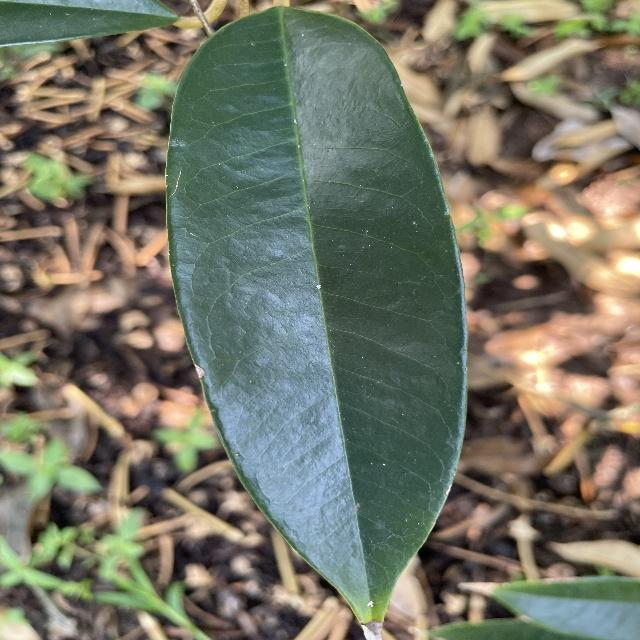No Disease: (159, 0, 481, 640)
